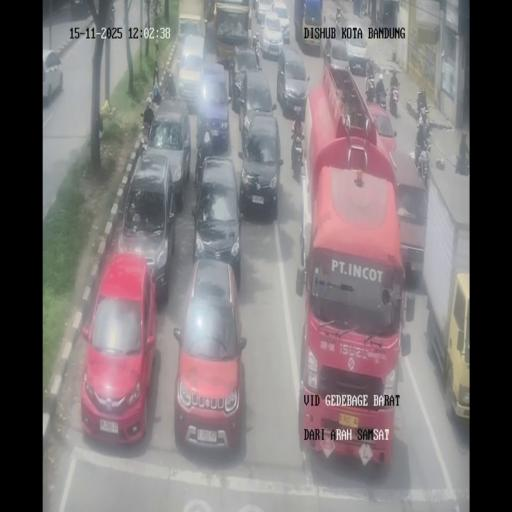3: (295, 55, 411, 469), (424, 146, 470, 424), (213, 1, 250, 66), (292, 1, 322, 54), (202, 19, 218, 59)
car: (80, 253, 158, 445), (172, 261, 247, 453), (190, 156, 242, 282), (143, 98, 192, 204), (196, 67, 230, 151), (236, 67, 274, 137), (276, 44, 310, 118), (177, 34, 206, 110), (365, 102, 396, 154), (41, 50, 63, 106), (262, 11, 284, 57), (325, 39, 350, 78), (345, 32, 368, 72), (177, 16, 202, 44), (68, 0, 90, 20), (255, 0, 267, 24)
truck: (414, 140, 431, 190), (290, 128, 305, 178), (140, 112, 154, 146), (388, 82, 400, 117), (163, 76, 177, 101), (375, 83, 387, 109), (365, 75, 376, 103), (454, 154, 468, 176), (95, 113, 104, 143), (252, 42, 261, 69), (417, 92, 427, 116), (366, 56, 374, 77), (335, 17, 342, 38), (109, 4, 115, 25), (360, 0, 367, 17)
